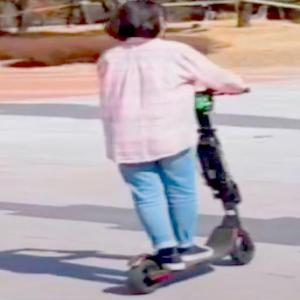with scooter: (98, 0, 256, 295)
